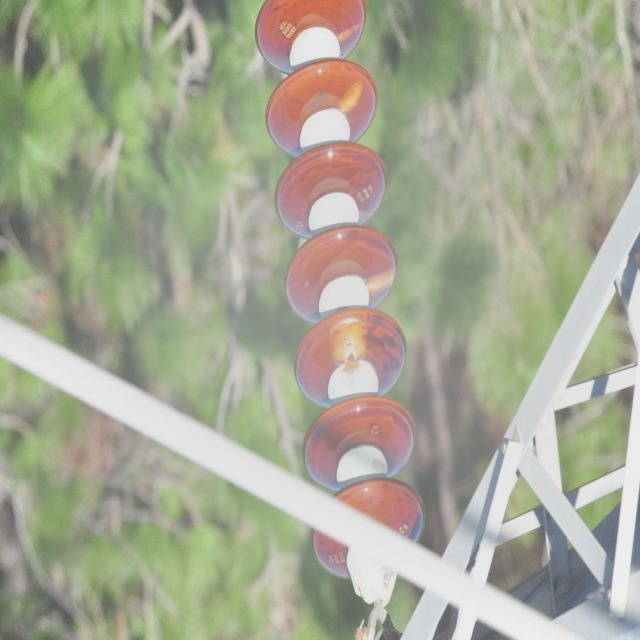insulator: (256, 0, 424, 584)
